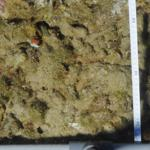dead: (3, 5, 136, 131)
